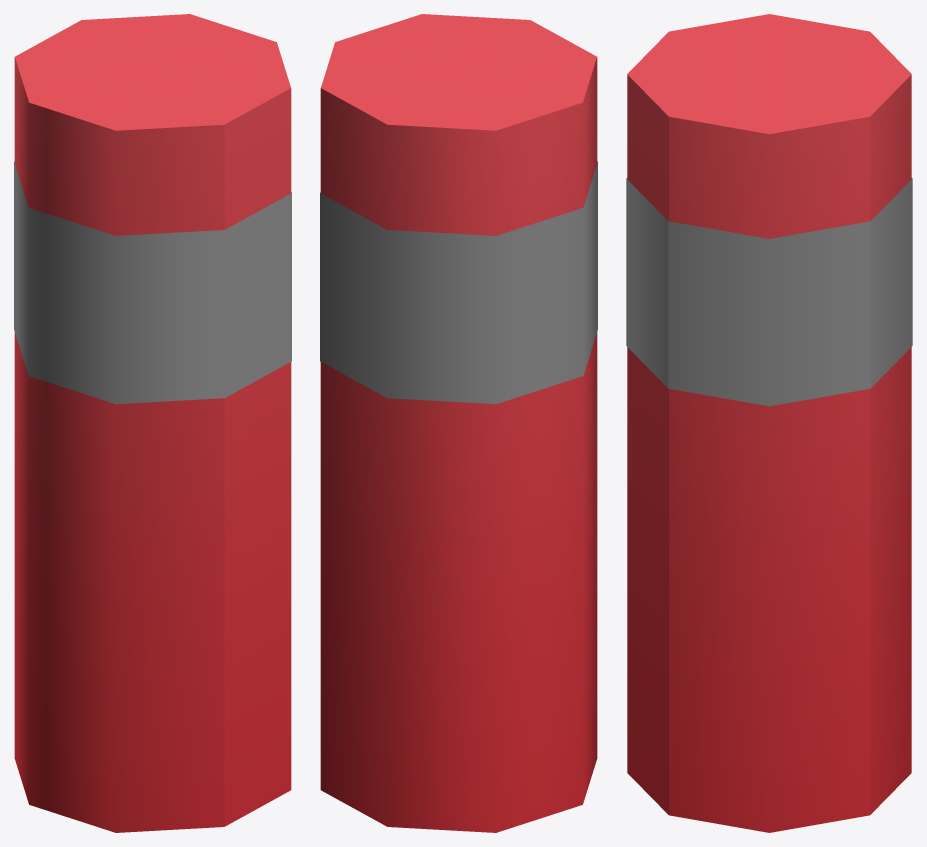
Rendered from Metal_Pole.fbx.
3 views of the same model, side by side, from view 1: azimuth 30°, elevation 25°; view 2: azimuth 150°, elevation 25°; view 3: azimuth 270°, elevation 25° (orthographic).
Visible parts, largest first — view 1: Metal_Pole_3A; view 2: Metal_Pole_3A; view 3: Metal_Pole_3A.
Part boxes in pixels (left/top/right/bottom): Metal_Pole_3A: left=14, top=14, right=291, bottom=832; Metal_Pole_3A: left=320, top=14, right=597, bottom=832; Metal_Pole_3A: left=626, top=14, right=912, bottom=832.
Bounding box in the file's own units: 784 × 2112 × 784.
